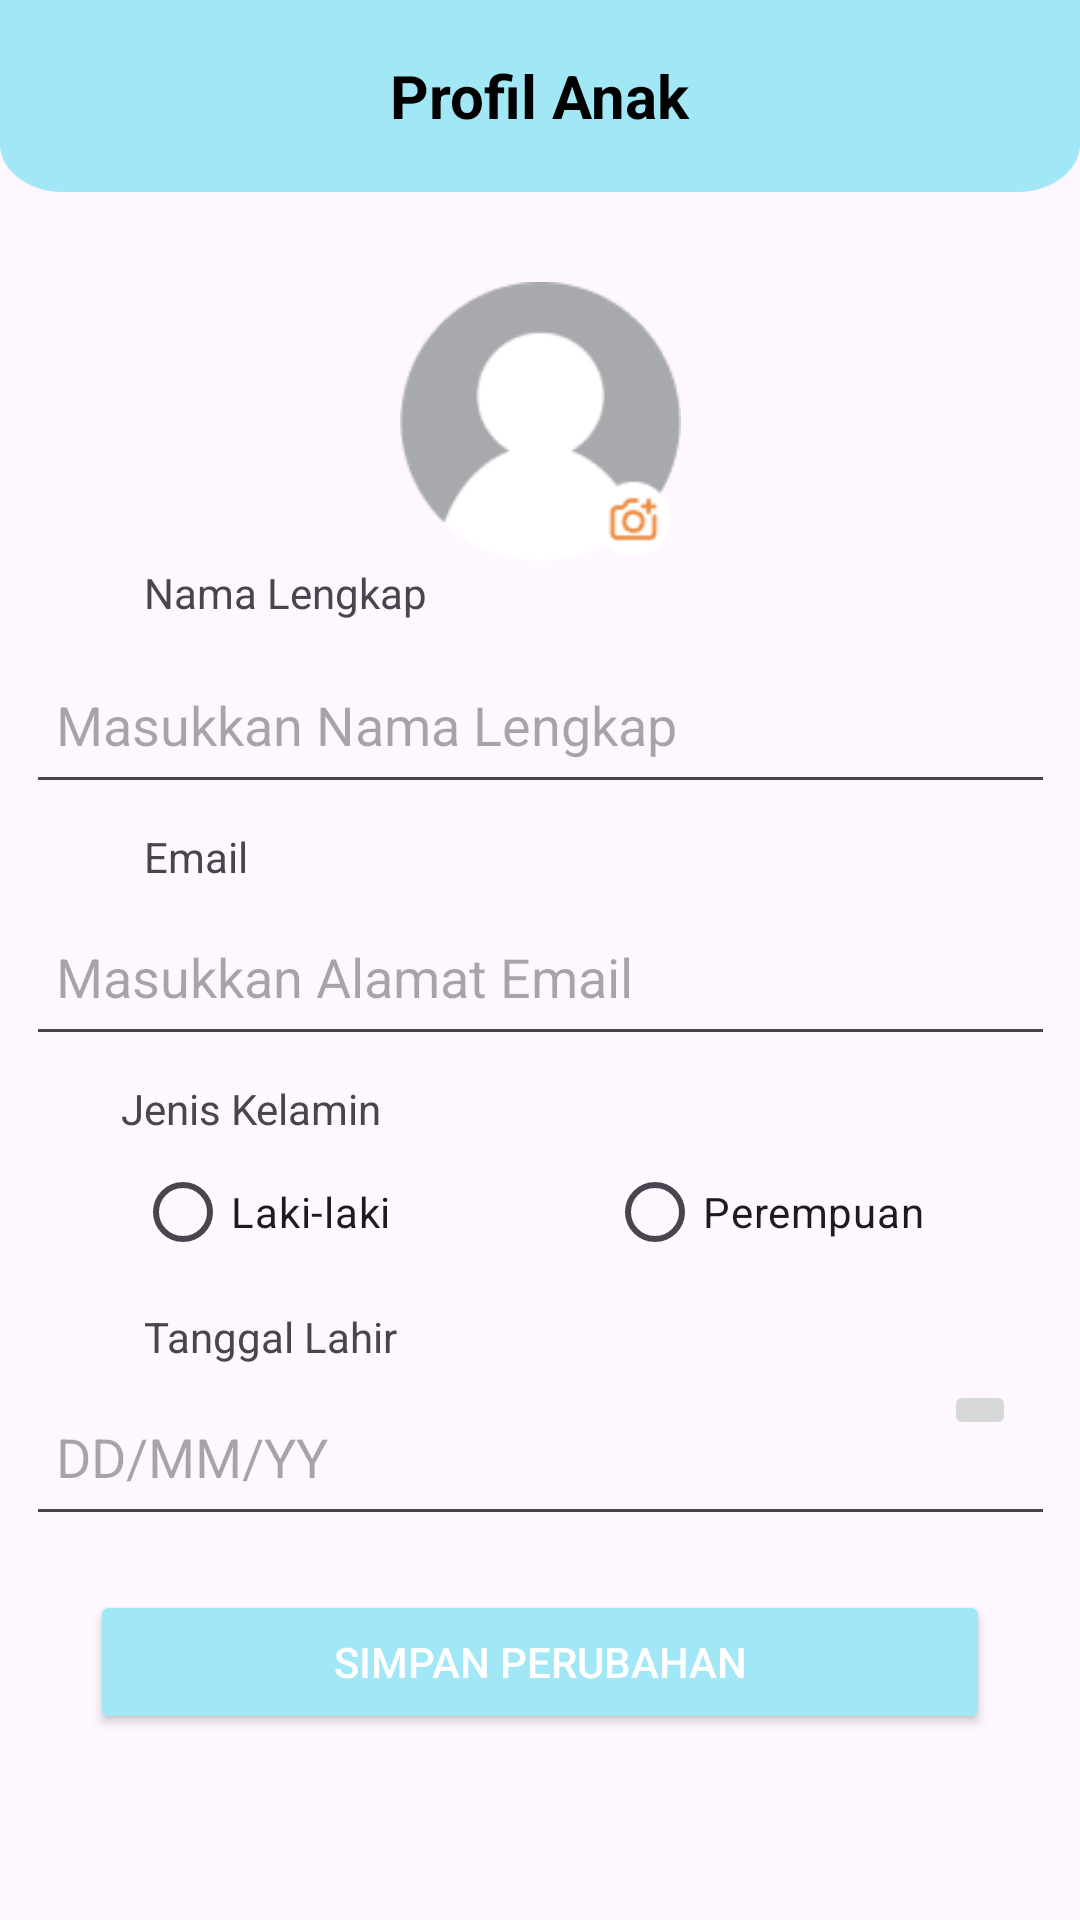

Icons on this 1080x1920 Android screen, each with its box as (x1, y1, x2, y2):
ava: (400, 282, 681, 561)
